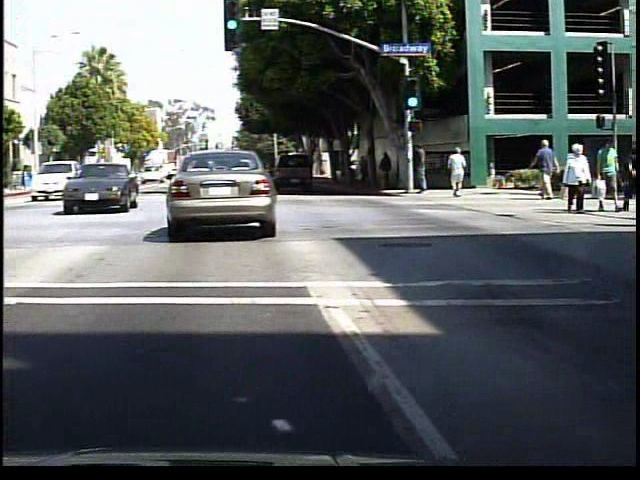person: (565, 141, 596, 214), (598, 139, 624, 216), (534, 139, 564, 202), (448, 144, 473, 201), (415, 141, 435, 200), (381, 149, 399, 192), (362, 153, 375, 189)
